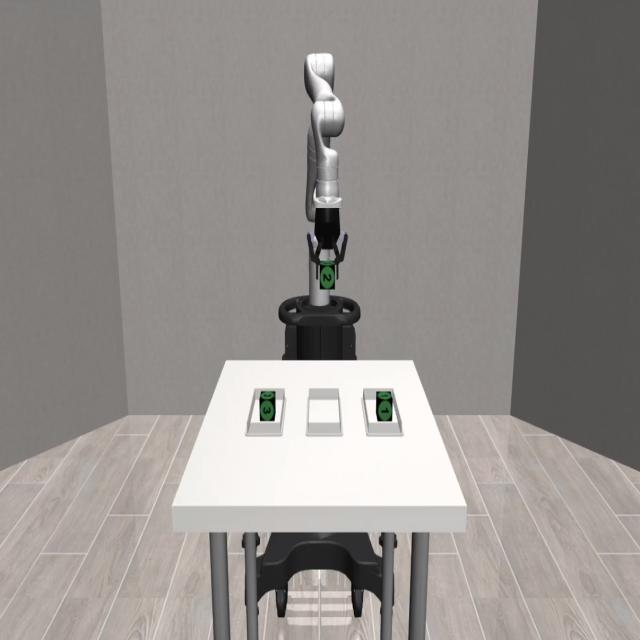cube1: (376, 390, 392, 423)
cube2: (319, 263, 336, 293)
cube3: (260, 390, 276, 420)
